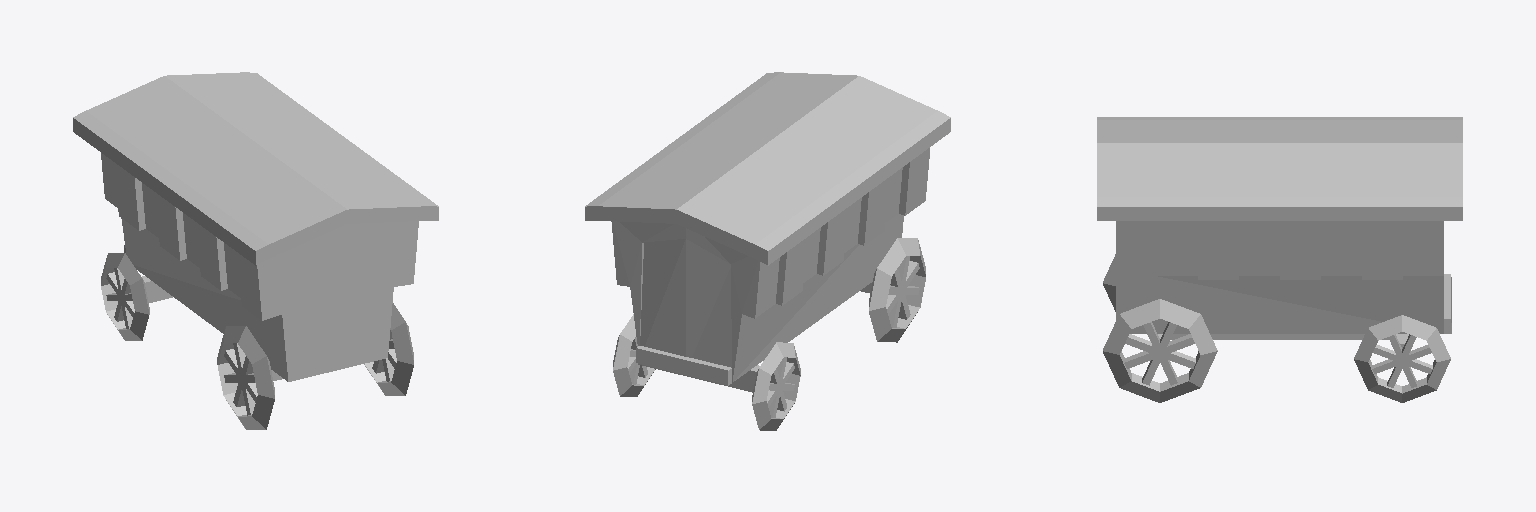
Rendered from MageCart.obj.
3 renders of one model, left to right at view 1: azimuth 30°, elevation 25°; view 2: azimuth 150°, elevation 25°; view 3: azimuth 270°, elevation 25°, orthographic.
Visible parts, largest first — view 1: Cube_Cube.001, Torus.001, Torus.003_Torus.004, Torus.000_Torus.002; view 2: Cube_Cube.001, Torus.001, Torus.003_Torus.004, Torus.002_Torus.003, Cube.001_Cube.004; view 3: Cube_Cube.001, Torus.000_Torus.002, Torus.002_Torus.003, Cube.001_Cube.004.
Boxes of the visible parts, box(x1,y1,x2,y2) form: Cube_Cube.001: box(73, 72, 438, 381); Torus.001: box(217, 326, 274, 429); Torus.003_Torus.004: box(101, 253, 149, 340); Torus.000_Torus.002: box(364, 303, 413, 395); Cube_Cube.001: box(585, 72, 950, 385); Torus.001: box(869, 238, 925, 342); Torus.003_Torus.004: box(752, 342, 800, 430); Torus.002_Torus.003: box(613, 314, 655, 396); Cube.001_Cube.004: box(638, 282, 872, 392); Cube_Cube.001: box(1097, 117, 1462, 333); Torus.000_Torus.002: box(1103, 299, 1217, 402); Torus.002_Torus.003: box(1354, 315, 1450, 402); Cube.001_Cube.004: box(1158, 334, 1408, 348).
Size of the model in its own units: 2.77 by 3.27 by 4.78.